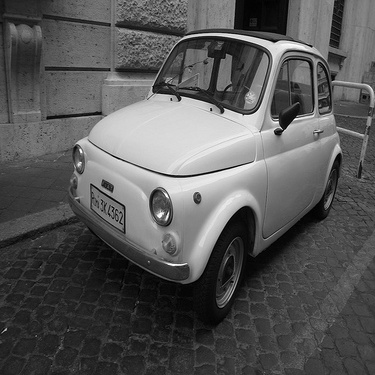car: (60, 23, 348, 324)
